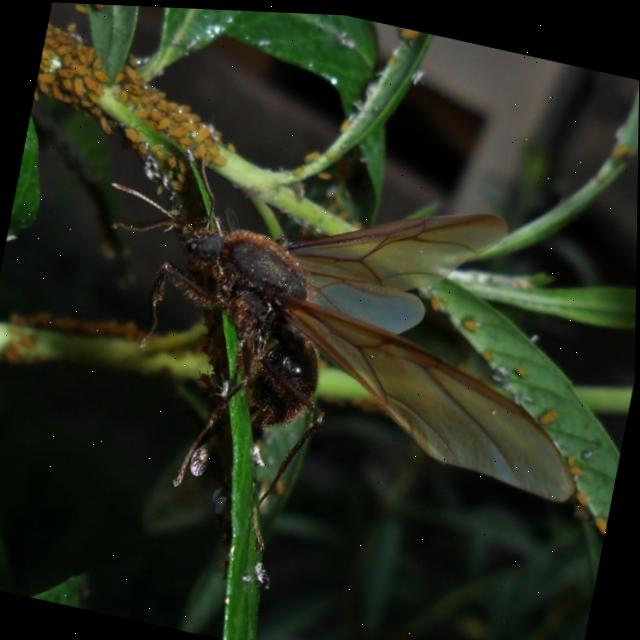Alive-Male-Alate: (49, 126, 625, 615)
